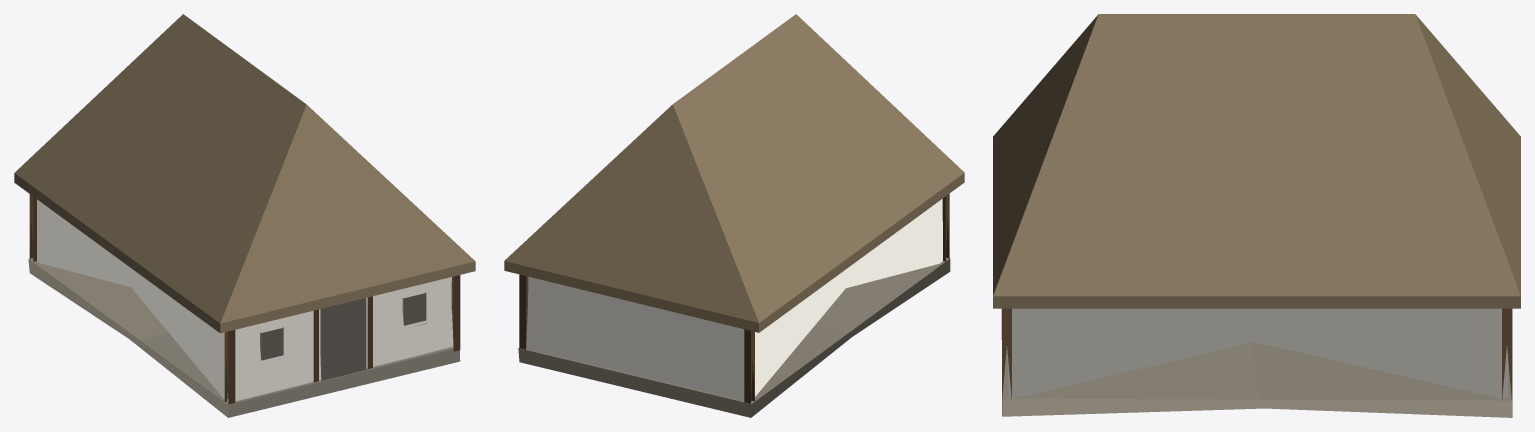
File: fv_burgage_l1.glb
The picture shows the model from 3 angles, left to right: view 1: azimuth 30°, elevation 25°; view 2: azimuth 150°, elevation 25°; view 3: azimuth 270°, elevation 25°; orthographic projection. The views are drawn at different scales.
Visible parts, largest first — view 1: l1_roof.001, l1_wall.001, l1_footing.001, l1_door.001, l1_post.001, l1_win2_inset.001, l1_post.003, l1_win1_inset.001, l1_post.002, l1_doorframe_l.001, l1_doorframe_r.001; view 2: l1_roof.001, l1_wall.001, l1_footing.001, l1_post.002, l1_post.004, l1_post.001; view 3: l1_roof.001, l1_wall.001, l1_footing.001, l1_post.003, l1_post.004.
Part boxes in pixels (x1,y1,x2,y2): l1_roof.001: (14, 14, 475, 333); l1_wall.001: (37, 199, 453, 401); l1_footing.001: (28, 258, 460, 417); l1_door.001: (320, 298, 366, 380); l1_post.001: (224, 330, 235, 404); l1_win2_inset.001: (402, 292, 426, 325); l1_post.003: (451, 275, 460, 351); l1_win1_inset.001: (260, 327, 283, 360); l1_post.002: (29, 194, 36, 261); l1_doorframe_l.001: (313, 309, 318, 382); l1_doorframe_r.001: (367, 296, 372, 368); l1_roof.001: (504, 14, 964, 332); l1_wall.001: (526, 199, 942, 400); l1_footing.001: (518, 257, 950, 417); l1_post.002: (744, 329, 754, 403); l1_post.004: (519, 274, 528, 349); l1_post.001: (942, 194, 949, 261); l1_roof.001: (993, 14, 1520, 308); l1_wall.001: (1007, 308, 1507, 398); l1_footing.001: (1001, 308, 1512, 417); l1_post.003: (1002, 308, 1011, 399); l1_post.004: (1502, 308, 1511, 399).
Size of the model in its own units: 6.8 by 6.59 by 9.5.
